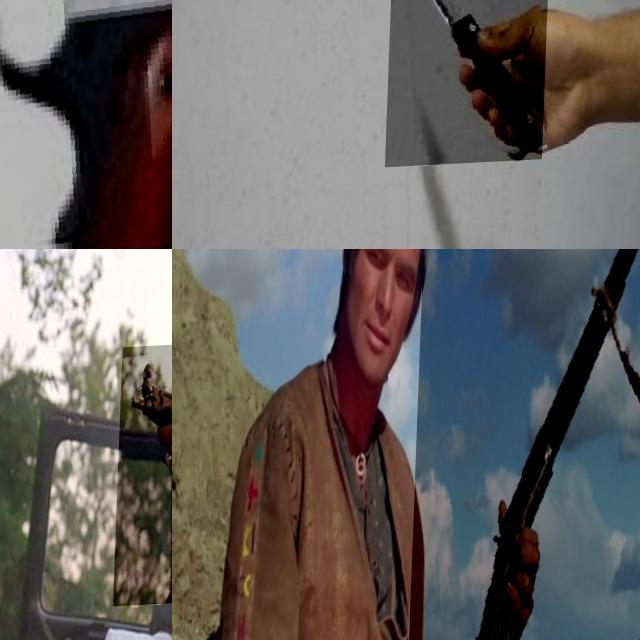-: (387, 0, 552, 170)
gun-knife-thesis - v11 Yolov5 augmented: (410, 249, 640, 640), (0, 0, 172, 249), (115, 341, 172, 608)
